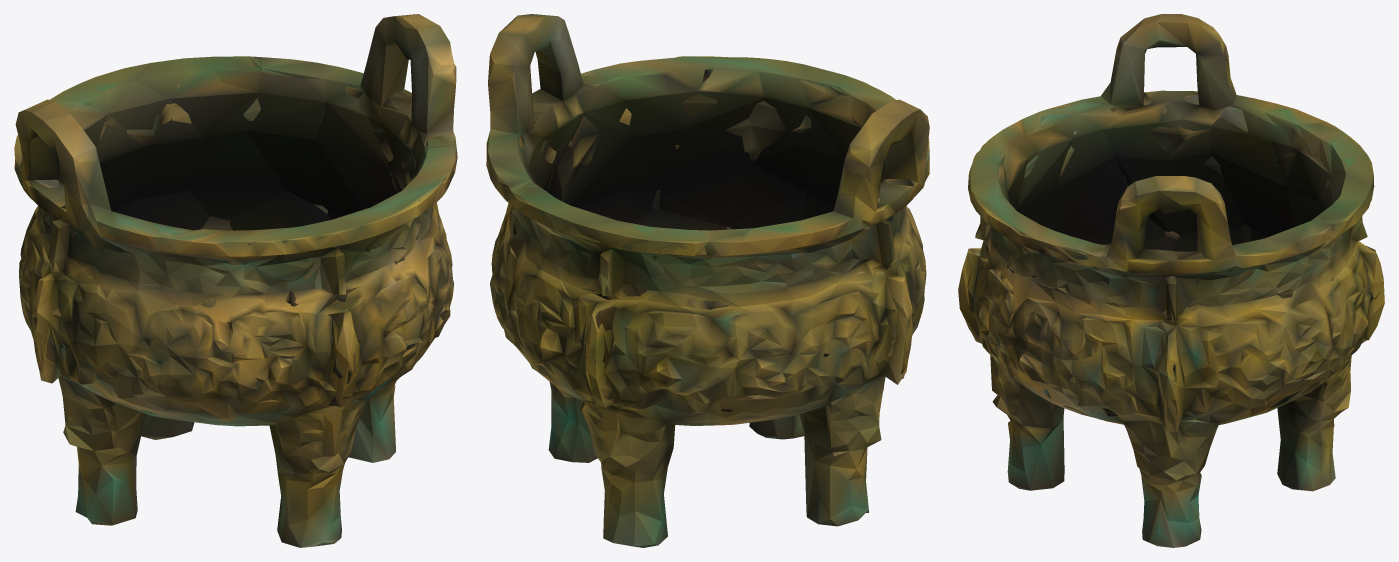
The model's file is bq_furnace.vc.glb.
3 views of the same model, side by side, from view 1: azimuth 30°, elevation 25°; view 2: azimuth 150°, elevation 25°; view 3: azimuth 270°, elevation 25° (orthographic). The views are drawn at different scales.
Visible parts, largest first — view 1: bq_furnace; view 2: bq_furnace; view 3: bq_furnace.
Boxes of the visible parts, left/top/right/bottom form: bq_furnace: left=14, top=14, right=457, bottom=547; bq_furnace: left=486, top=14, right=929, bottom=547; bq_furnace: left=958, top=14, right=1384, bottom=547.
Bounding box in the file's own units: 1.68 × 1.66 × 1.69.
